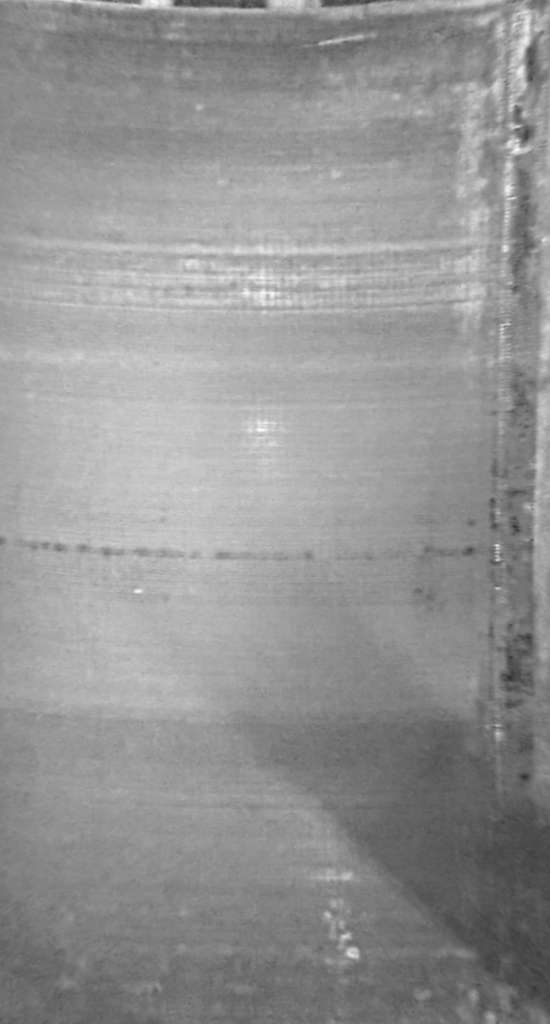splice: (489, 1, 550, 1024)
